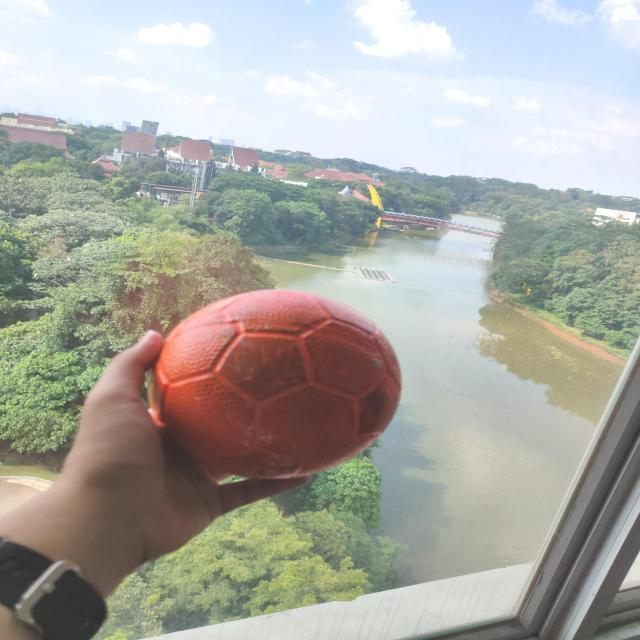bola: (148, 284, 402, 476)
